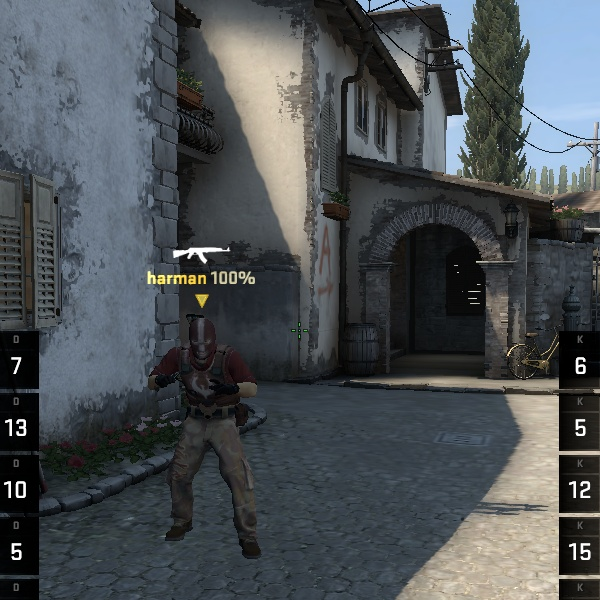t_body: (138, 305, 274, 558)
t_head: (178, 310, 230, 365)
